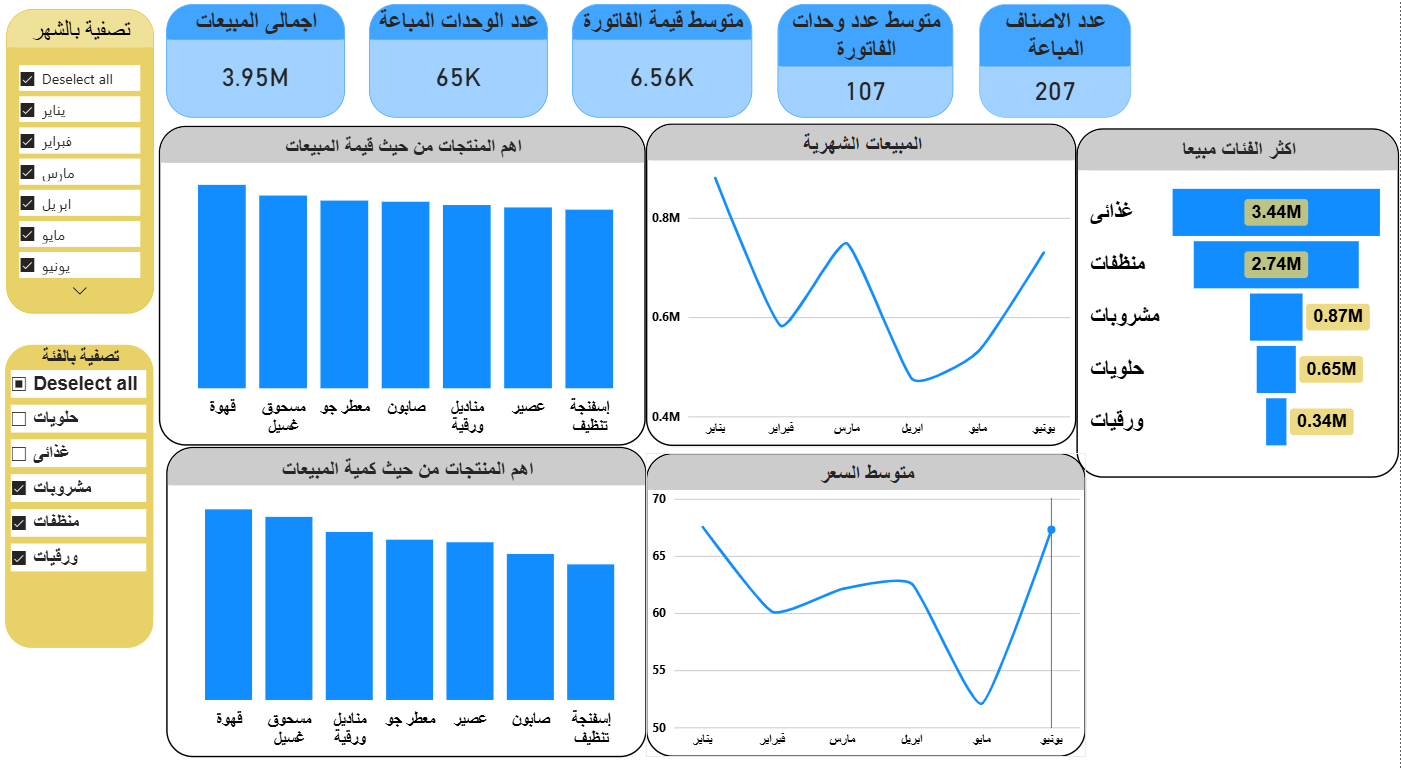

The dashboard page shown, as its layout file describes it:
{"tool":"powerbi","page":{"name":"Duplicate of Page 1","canvas":[1580,890],"ordinal":1},"visuals":[{"type":"card","title":"اجمالى المبيعات ","fields":{"Values":["Sum(Supermarket_Data.اجمالى الفاتورة)"]},"box":[193.3,12,200.8,127.4],"z":0},{"type":"card","title":" عدد الوحدات المباعة","fields":{"Values":["Sum(Supermarket_Data.الكمية_المباعة)"]},"box":[421.1,12,200.8,127.4],"z":1000},{"type":"card","title":"متوسط قيمة الفاتورة ","fields":{"Values":["Avg(Supermarket_Data.اجمالى الفاتورة)"]},"box":[649.8,12.1,202.4,127.3],"z":2000},{"type":"card","title":"متوسط  عدد وحدات الفاتورة ","fields":{"Values":["Avg(Supermarket_Data.الكمية_المباعة)"]},"box":[880.1,12.1,197.6,127.3],"z":3000},{"type":"card","title":"عدد الاصناف المباعة","fields":{"Values":["Count(Supermarket_Data.الكمية_المباعة)"]},"box":[1106.8,12.1,170.9,127.3],"z":4000},{"type":"columnChart","title":"اهم المنتجات من حيث قيمة المبيعات","fields":{"Category":["Supermarket_Data.المنتج"],"Y":["Sum(Supermarket_Data.اجمالى الفاتورة)"]},"box":[185.8,149.8,546.9,359.6],"z":5000},{"type":"listSlicer","title":"تصفية بالشهر ","fields":{"Values":["الشهور بالعربى.اسم الشهر بالعربى"]},"box":[13.5,18,166.1,342.7],"z":6000},{"type":"columnChart","title":"اهم المنتجات من حيث كمية المبيعات","fields":{"Category":["Supermarket_Data.المنتج"],"Y":["Sum(Supermarket_Data.الكمية_المباعة)"]},"box":[193.3,509.5,539.5,349.1],"z":7000},{"type":"lineChart","title":"المبيعات الشهرية","fields":{"Category":["الشهور بالعربى.اسم الشهر بالعربى"],"Y":["Sum(Supermarket_Data.اجمالى الفاتورة)"]},"box":[732.8,146.9,484,362.6],"z":8000},{"type":"funnel","title":"اكثر الفئات مبيعا","fields":{"Category":["catigories.الفئة"],"Y":["Sum(Supermarket_Data.اجمالى الفاتورة)"]},"box":[1216.8,151.3,362.6,392.6],"z":9000},{"type":"listSlicer","title":"تصفية بالفئة ","fields":{"Values":["catigories.الفئة"]},"box":[12.2,395.9,166.7,340.3],"z":11000},{"type":"lineChart","title":"متوسط السعر","fields":{"Category":["الشهور بالعربى.اسم الشهر بالعربى"],"Y":["Avg(Supermarket_Data.السعر_للواحدة)"]},"box":[732.8,517,494.5,341.7],"z":11002}]}

Visuals, with their boxes in screenshot pixels (x1, y1, x2, y2), scaled from the page's 1580x890 canvas onto the 1401x769 screenshot:
"اجمالى المبيعات " card: (x1=171, y1=10, x2=349, y2=120)
" عدد الوحدات المباعة" card: (x1=373, y1=10, x2=551, y2=120)
"متوسط قيمة الفاتورة " card: (x1=576, y1=10, x2=756, y2=120)
"متوسط  عدد وحدات الفاتورة " card: (x1=780, y1=10, x2=956, y2=120)
"عدد الاصناف المباعة" card: (x1=981, y1=10, x2=1133, y2=120)
"اهم المنتجات من حيث قيمة المبيعات" columnChart: (x1=165, y1=129, x2=650, y2=440)
"تصفية بالشهر " listSlicer: (x1=12, y1=16, x2=159, y2=312)
"اهم المنتجات من حيث كمية المبيعات" columnChart: (x1=171, y1=440, x2=650, y2=742)
"المبيعات الشهرية" lineChart: (x1=650, y1=127, x2=1079, y2=440)
"اكثر الفئات مبيعا" funnel: (x1=1079, y1=131, x2=1400, y2=470)
"تصفية بالفئة " listSlicer: (x1=11, y1=342, x2=159, y2=636)
"متوسط السعر" lineChart: (x1=650, y1=447, x2=1088, y2=742)
